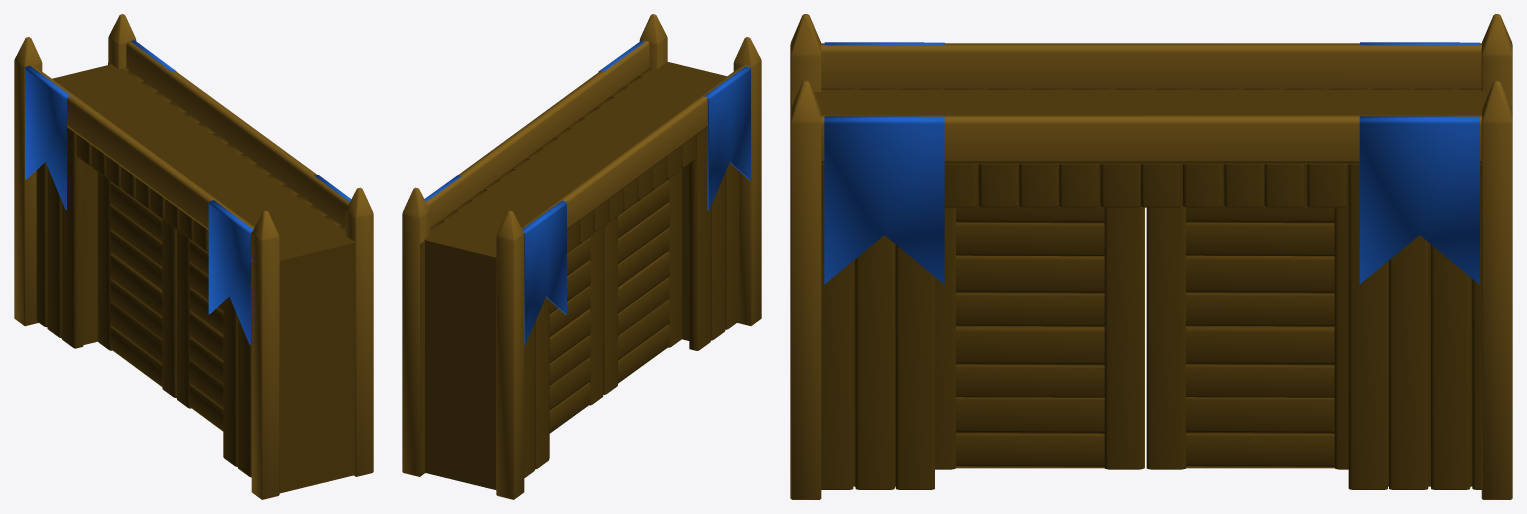
The model's file is Gate_Level1_BlueTeam.glb.
3 views of the same model, side by side, from view 1: azimuth 30°, elevation 25°; view 2: azimuth 150°, elevation 25°; view 3: azimuth 270°, elevation 25° (orthographic). The views are drawn at different scales.
Parts seen in each view (by area): view 1: Gate_Level1_BlueTeam; view 2: Gate_Level1_BlueTeam; view 3: Gate_Level1_BlueTeam.
Part boxes in pixels (x1=…): Gate_Level1_BlueTeam: x1=14, y1=14, x2=373, y2=499; Gate_Level1_BlueTeam: x1=402, y1=14, x2=761, y2=499; Gate_Level1_BlueTeam: x1=790, y1=14, x2=1512, y2=499.
Size of the model in its own units: 9.8 by 23.5 by 37.27.
